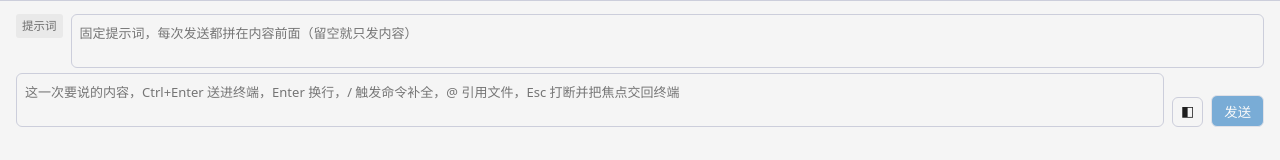
Scenario: 终端输入框 › 命令后面补一个空格，省得每次自己再敲
Replace the text in the 2nd text box with "/plug" at (590, 100), box [16,73,1164,127]
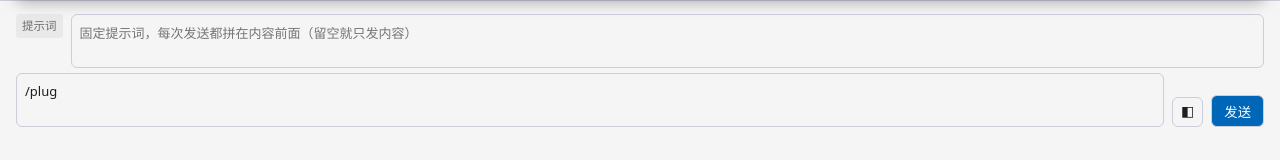
Press Tab in the 2nd text box, box [16,73,1164,127]
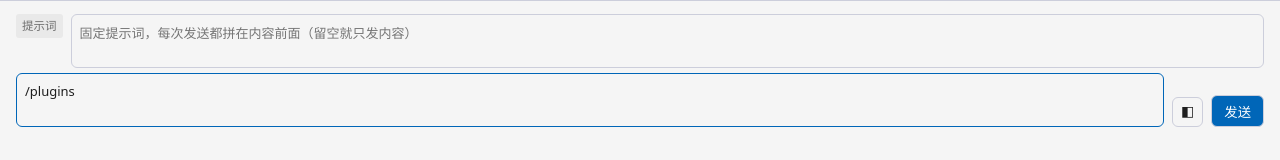
Check: the 2nd text box holds "/plugins ", box [16,73,1164,127]
